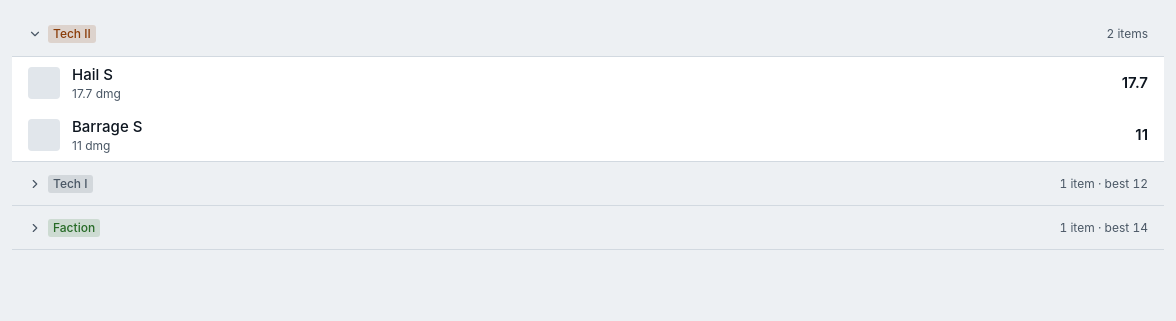
it: MetaGroupList › shows the count and the best value on collapsed groups, and expands on click
The image size is (1176, 321).
Click the button "Tech I 1 item · best 12". click: (70, 184)
box: [12, 162, 1164, 206]
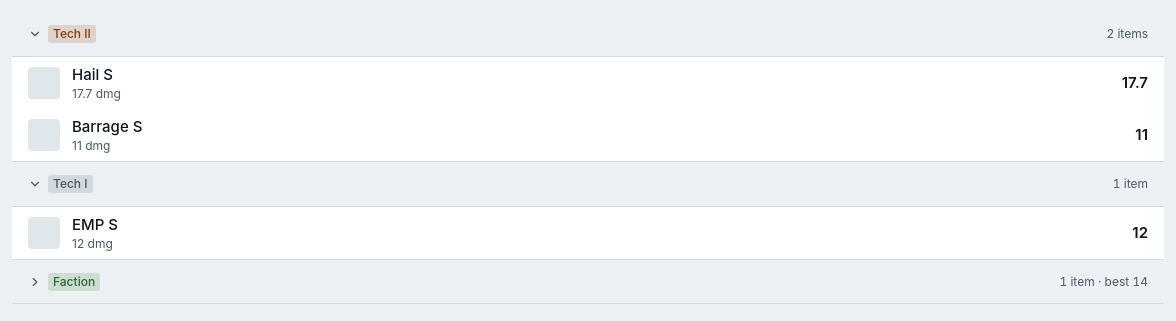
Now the text "EMP S" is shown, box [72, 214, 118, 234]
